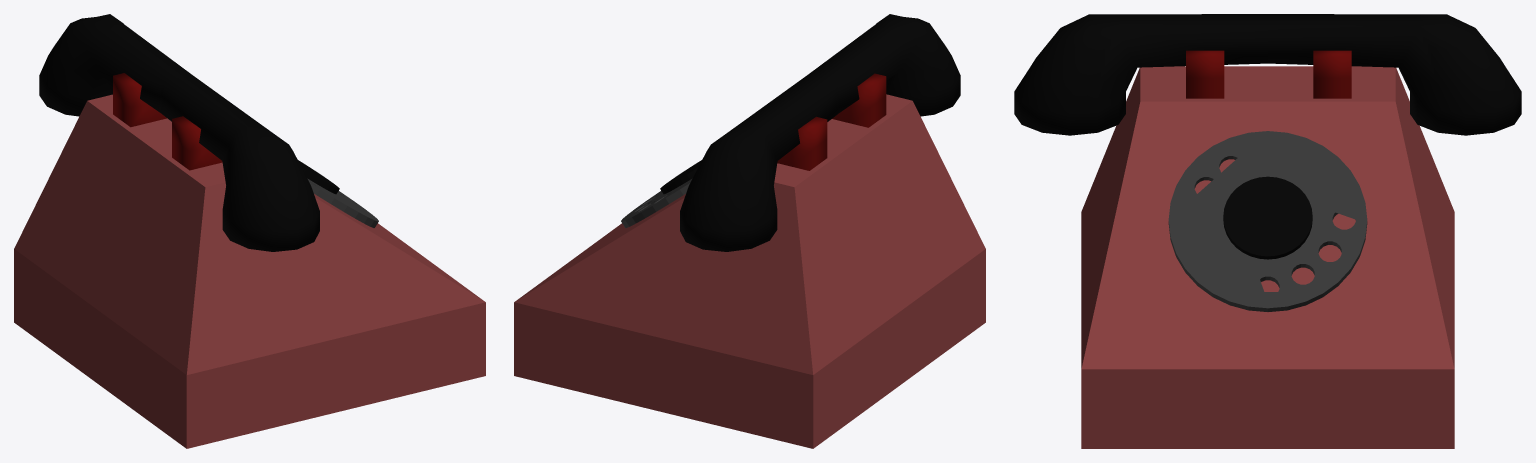
Rendered from tell.fbx.
The picture shows the model from 3 angles, left to right: view 1: azimuth 30°, elevation 25°; view 2: azimuth 150°, elevation 25°; view 3: azimuth 270°, elevation 25°; orthographic projection. The views are drawn at different scales.
Visible parts, largest first — view 1: Circle; view 2: Circle; view 3: Circle.
Part boxes in pixels (box(x1,y1,x2,y2)): Circle: box(14, 14, 485, 448); Circle: box(514, 14, 985, 448); Circle: box(1014, 14, 1521, 448).
Bounding box in the file's own units: 200 × 184 × 272.
